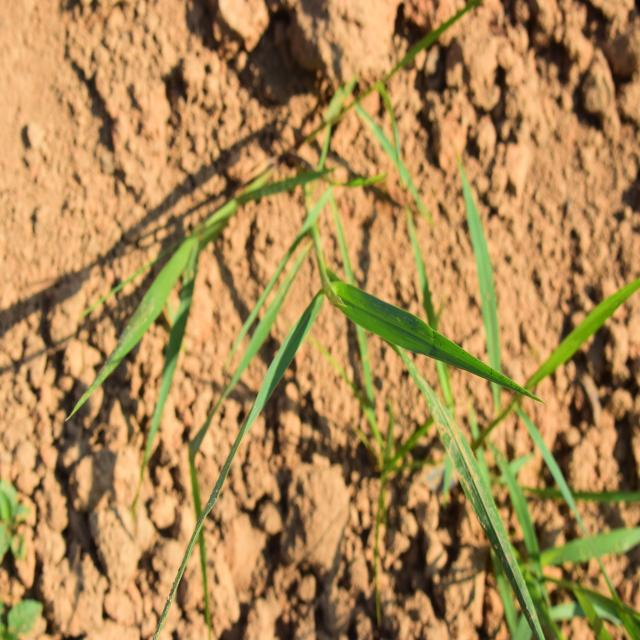green_foxtail: (141, 200, 477, 457)
